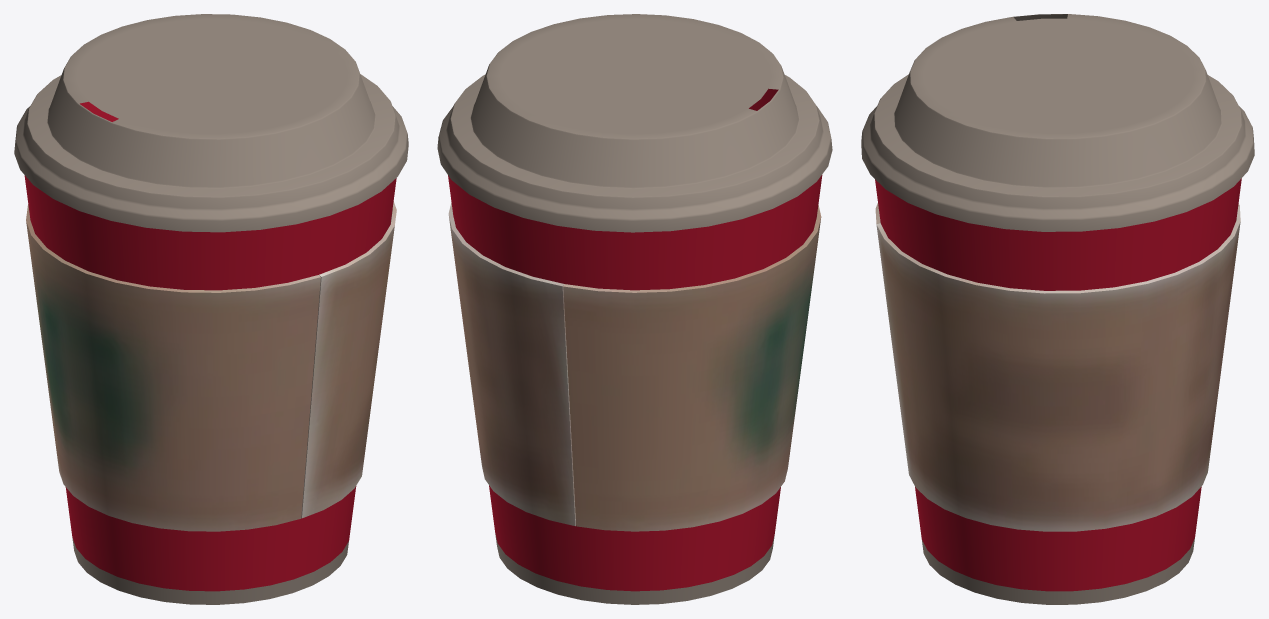
Rendered from coffee_cup.glb.
3 views of the same model, side by side, from view 1: azimuth 30°, elevation 25°; view 2: azimuth 150°, elevation 25°; view 3: azimuth 270°, elevation 25° (orthographic).
Visible parts, largest first — view 1: coffee_cup; view 2: coffee_cup; view 3: coffee_cup.
Part boxes in pixels (x1,y1,x2,y2): coffee_cup: (14,14,408,604); coffee_cup: (437,14,832,604); coffee_cup: (861,14,1254,604).
Size of the model in its own units: 0.1137 by 0.15 by 0.1137.
4 materials, 2 textured.
